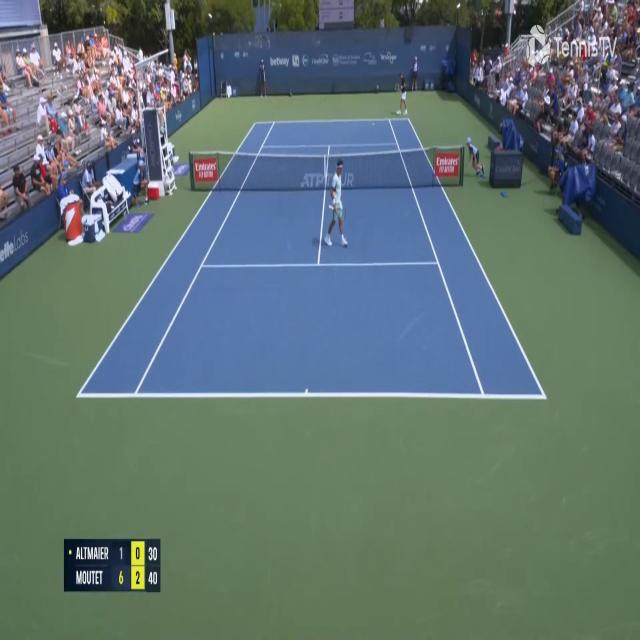tennis-player: (322, 158, 349, 252), (394, 69, 410, 119)
